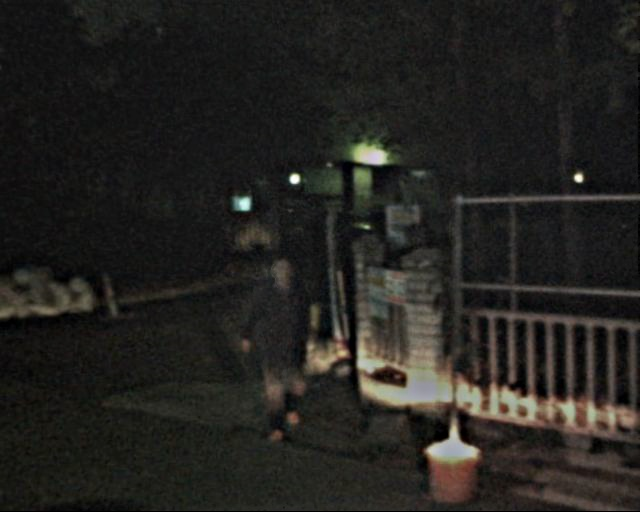person: (245, 248, 320, 447)
